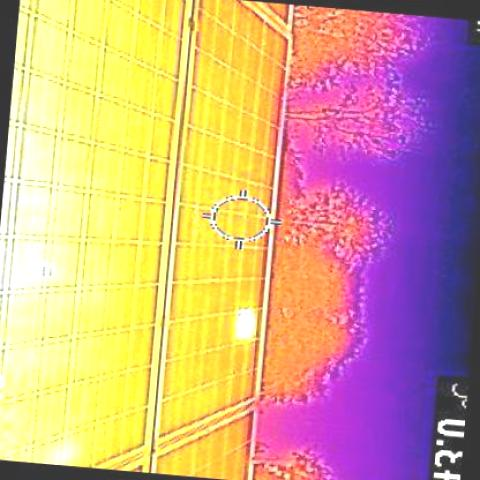fault: (233, 305, 259, 338)
